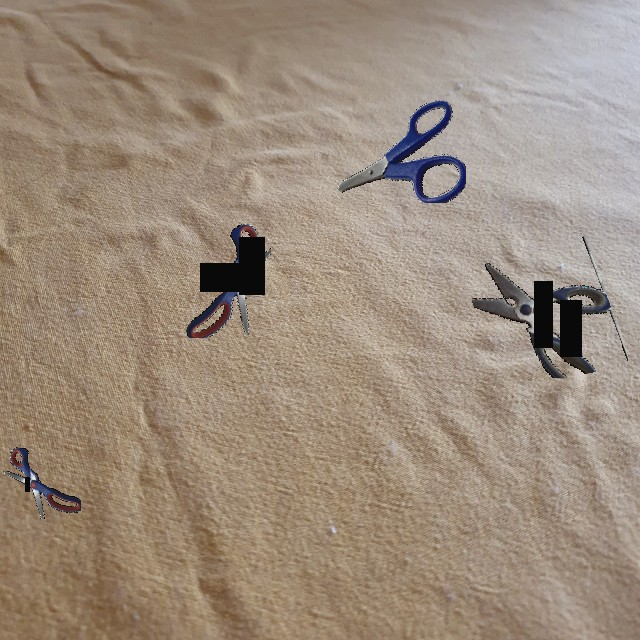scissors: (472, 235, 628, 378), (337, 100, 466, 203), (186, 223, 271, 338), (3, 447, 81, 519)
